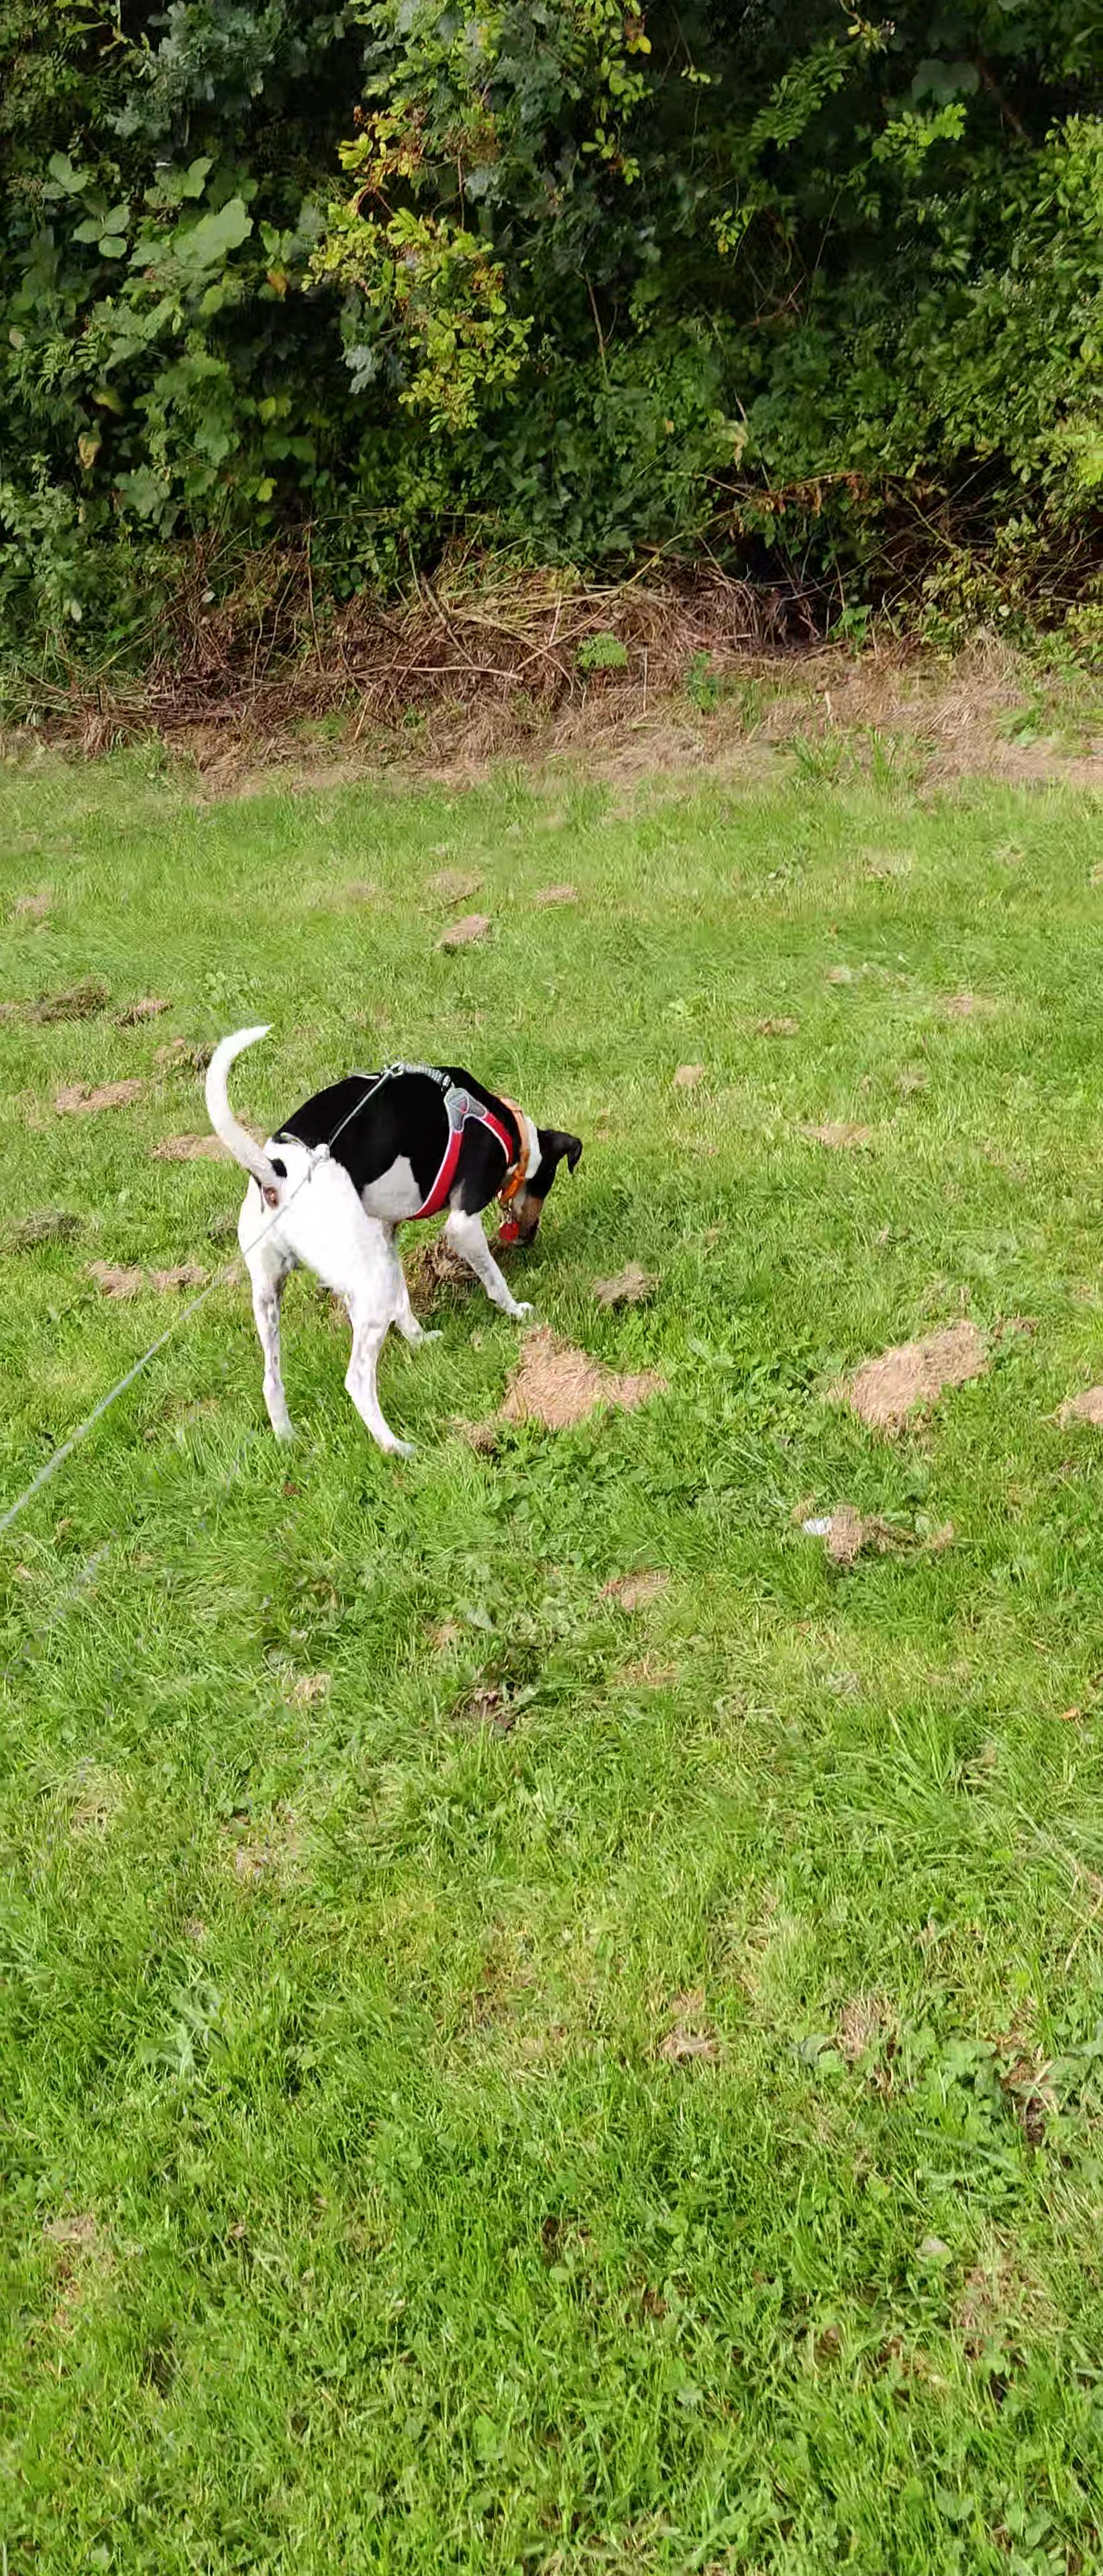Dog: (199, 1020, 590, 1460)
